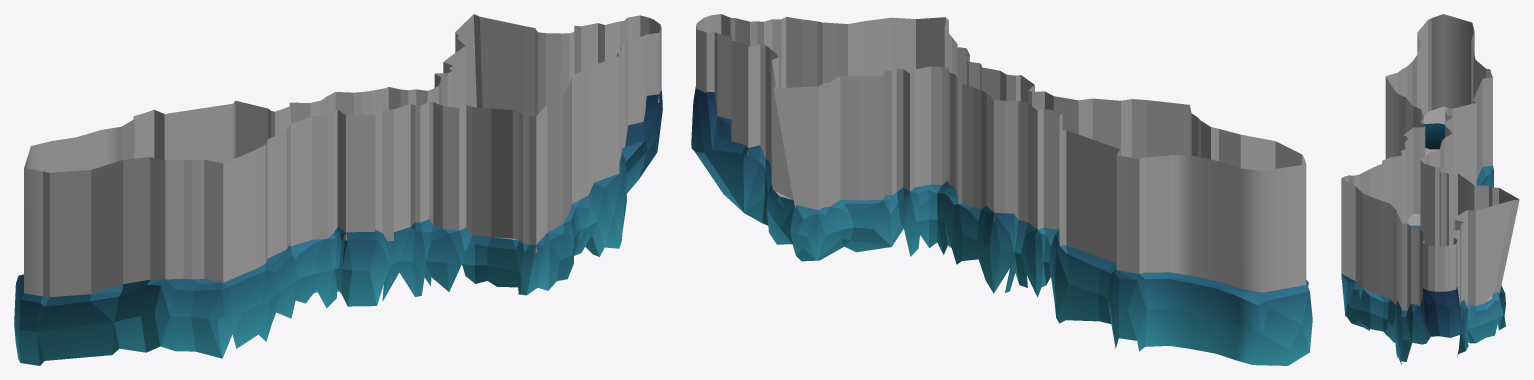
File: MOD_Level1_Versie7.fbx
3 views of the same model, side by side, from view 1: azimuth 30°, elevation 25°; view 2: azimuth 150°, elevation 25°; view 3: azimuth 270°, elevation 25° (orthographic). The views are drawn at different scales.
Parts seen in each view (by area): view 1: MOD_Boundaries, MOD_Level1; view 2: MOD_Boundaries, MOD_Level1; view 3: MOD_Boundaries, MOD_Level1, MOD_Level1_Floor.
Part boxes in pixels (bbox=[...]): MOD_Boundaries: bbox=[24, 14, 661, 297]; MOD_Level1: bbox=[14, 90, 662, 365]; MOD_Boundaries: bbox=[696, 14, 1306, 292]; MOD_Level1: bbox=[691, 86, 1312, 365]; MOD_Boundaries: bbox=[1341, 14, 1519, 310]; MOD_Level1: bbox=[1341, 165, 1505, 364]; MOD_Level1_Floor: bbox=[1408, 106, 1492, 301].
Bounding box in the file's own units: 24.83 × 7.75 × 8.12.
